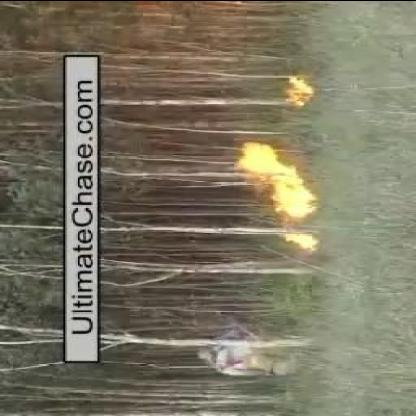foggia-v2-map80-epoch100 - v1 4323: (238, 140, 319, 252), (281, 76, 315, 106)
